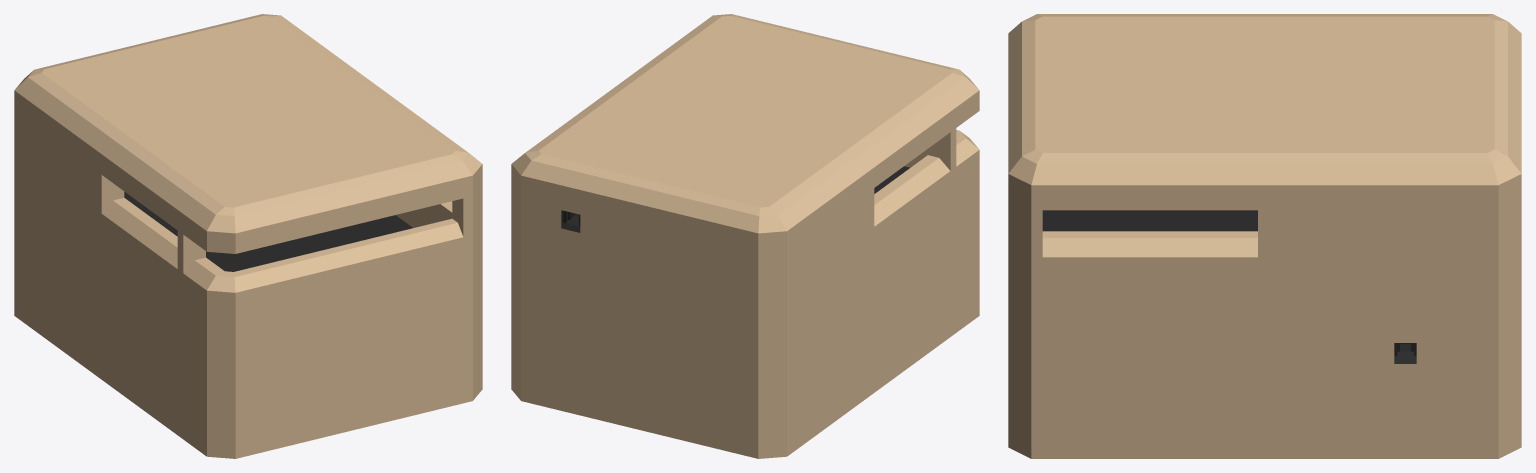
File: bunker-big.glb
The picture shows the model from 3 angles, left to right: view 1: azimuth 30°, elevation 25°; view 2: azimuth 150°, elevation 25°; view 3: azimuth 270°, elevation 25°; orthographic projection. The views are drawn at different scales.
Visible parts, largest first — view 1: bunker-big; view 2: bunker-big; view 3: bunker-big.
Part boxes in pixels (box(x1,y1,x2,y2)): bunker-big: box(14, 14, 482, 458); bunker-big: box(511, 14, 979, 458); bunker-big: box(1008, 14, 1521, 458).
Size of the model in its own units: 8.1 by 6.77 by 10.76.
1 material, 1 textured.
